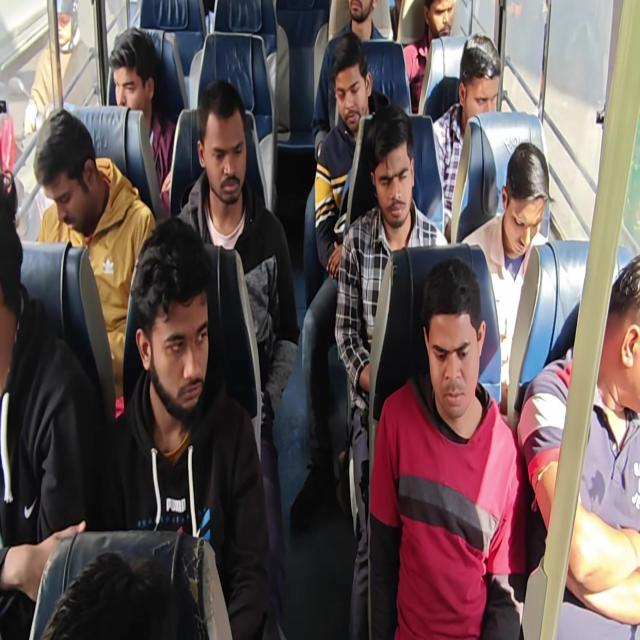person: (1, 1, 638, 638), (84, 216, 275, 638), (172, 79, 300, 623), (334, 103, 449, 638), (368, 256, 527, 638), (290, 31, 391, 531), (517, 253, 639, 631), (0, 167, 97, 638), (33, 108, 157, 418), (460, 141, 552, 414), (314, 32, 391, 280), (40, 550, 202, 639), (432, 33, 501, 241), (107, 26, 177, 217), (312, 0, 394, 161), (23, 0, 100, 136), (402, 0, 457, 113)
